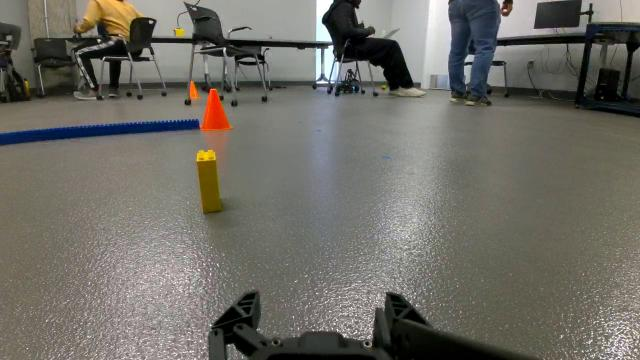lego: (172, 138, 249, 228)
